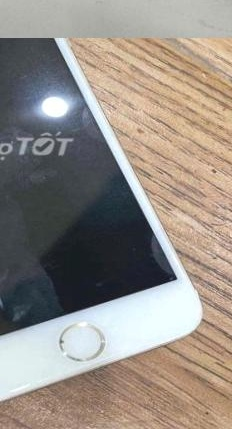scratch: (55, 337, 77, 344)
